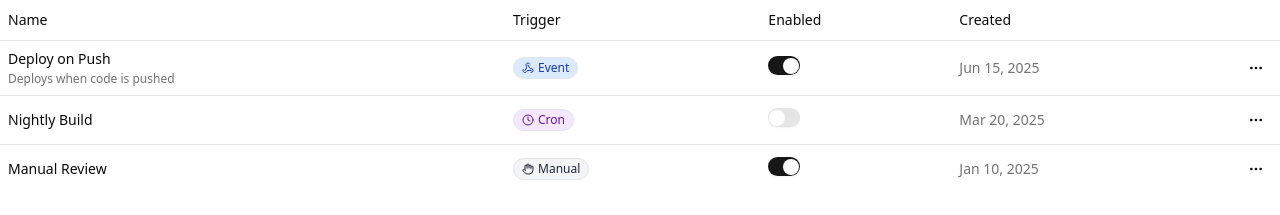
it: AutomationTable › should show dropdown menu items when menu button is clicked
The width and height of the screenshot is (1280, 215).
Click the button named "Open menu" in the row of "Deploy on Push".
click(1256, 68)  # box [1240, 52, 1272, 84]
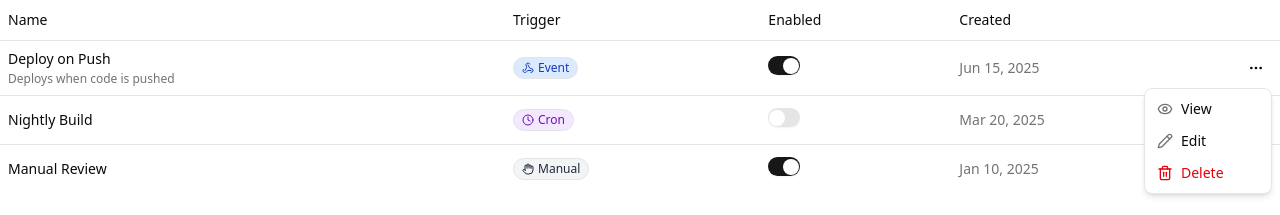
Expected: the menu item "View" is shown, [1157, 99, 1212, 118]
Expected: the menu item "Edit" is shown, [1157, 131, 1206, 150]
Expected: the menu item "Delete" is shown, [1157, 163, 1224, 182]
